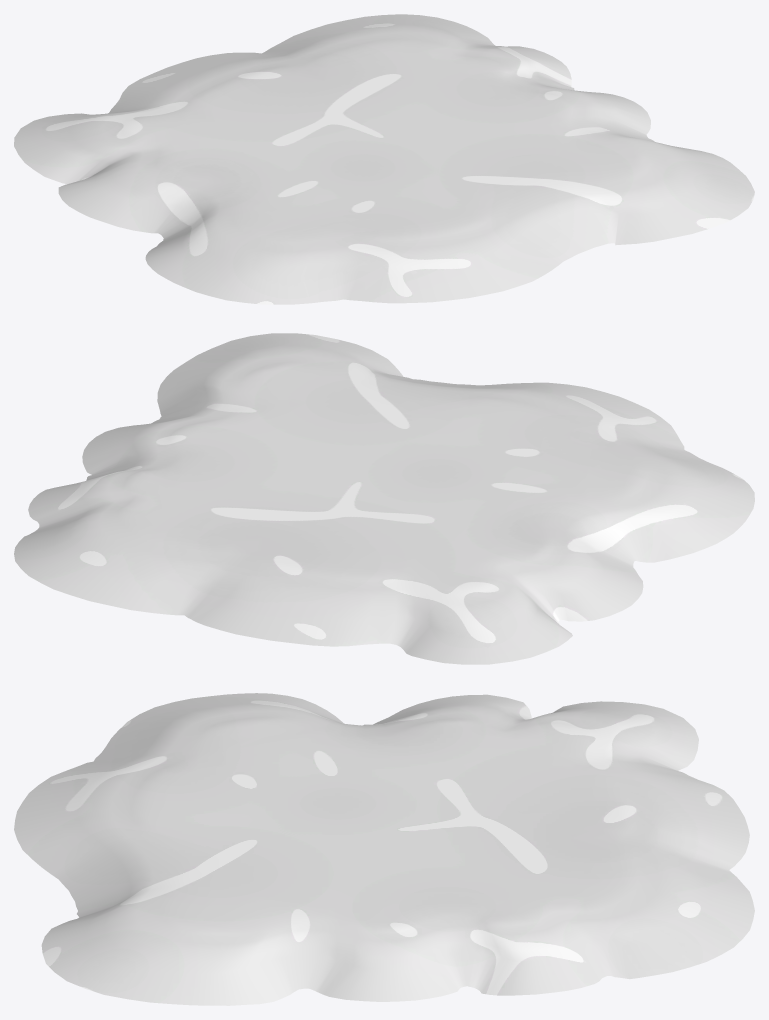
Rendered from island (1).fbx.
3 views of the same model, one above another, from view 1: azimuth 30°, elevation 25°; view 2: azimuth 150°, elevation 25°; view 3: azimuth 270°, elevation 25° (orthographic). The views are drawn at different scales.
Visible parts, largest first — view 1: island__1_; view 2: island__1_; view 3: island__1_.
Boxes of the visible parts, x1=… form: island__1_: x1=14, y1=14, x2=754, y2=304; island__1_: x1=14, y1=333, x2=754, y2=664; island__1_: x1=14, y1=693, x2=754, y2=1005.
Size of the model in its own units: 10140 by 565 by 10229.
1 material, 1 textured.
